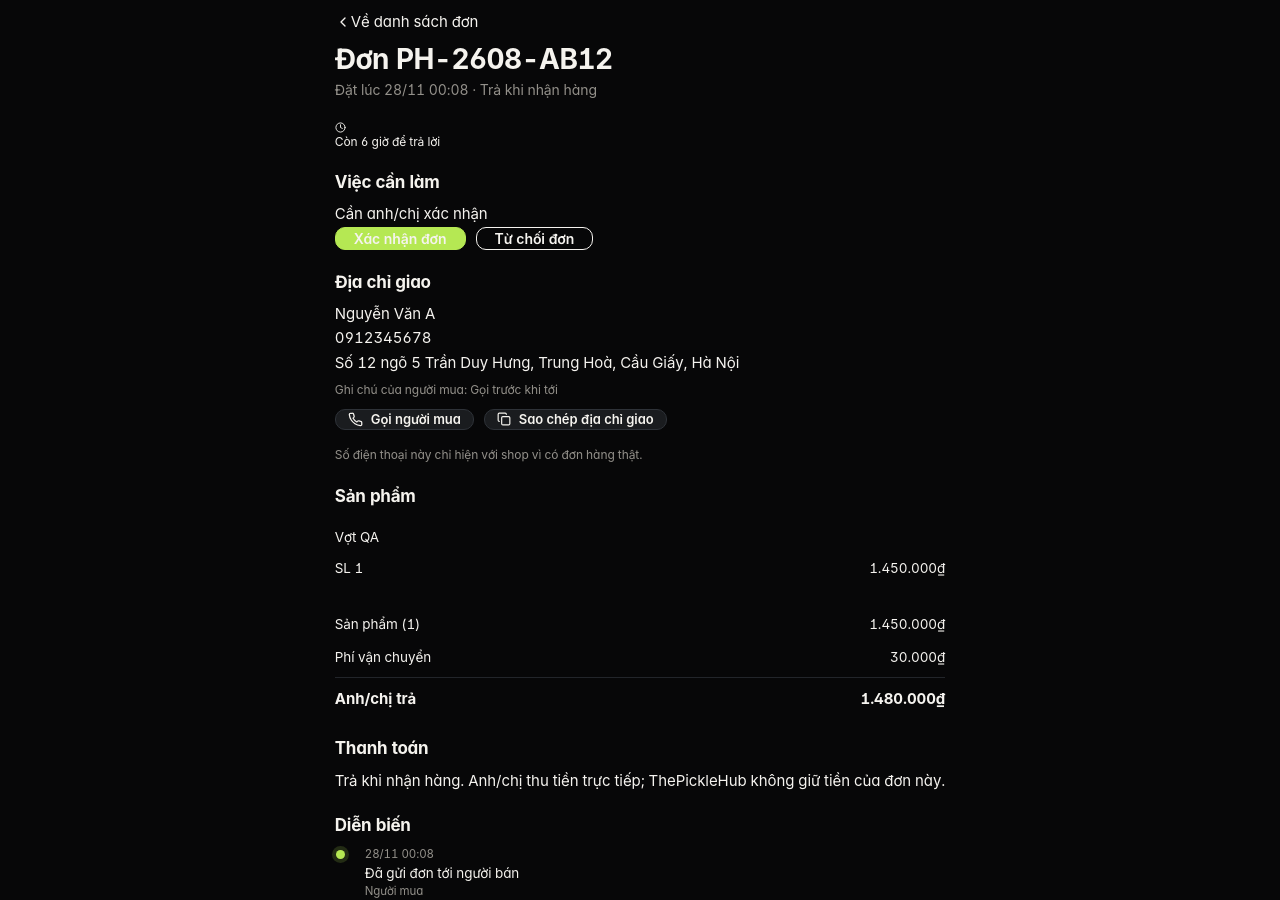
Test case: refusing an order › asks for the reason in a field, not a confirm dialog, and blocks an empty one
This screenshot has width=1280, height=900.
Click the button "Từ chối đơn" at (534,238), box [476,227,593,250]
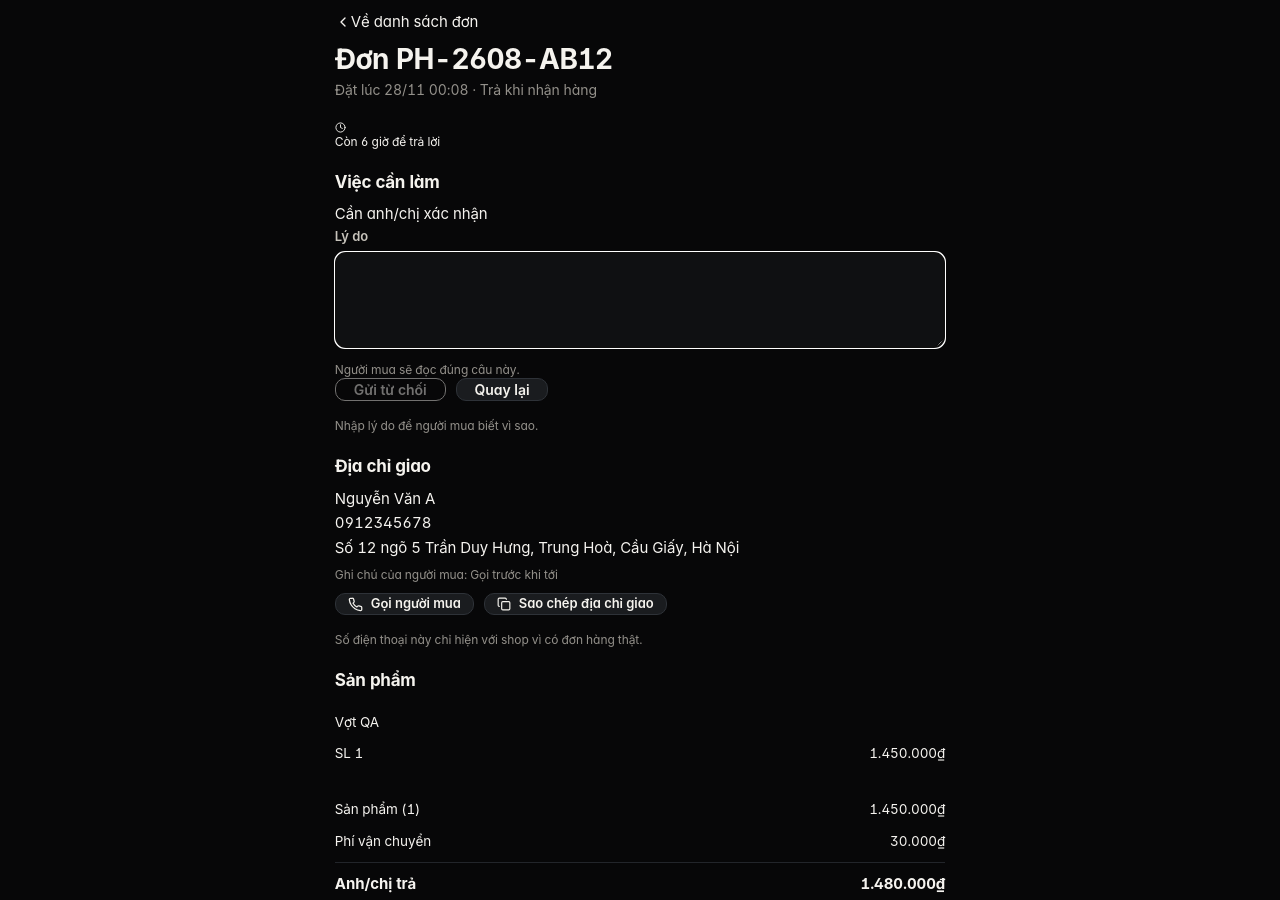
Expected: the button "Gửi từ chối" is disabled, [335,378,446,401]
Expected: the text "Nhập lý do để người mua biết vì sao." is shown, [335,418,538,433]
Expected: the text "Người mua sẽ đọc đúng câu này." is shown, [335,362,520,377]
